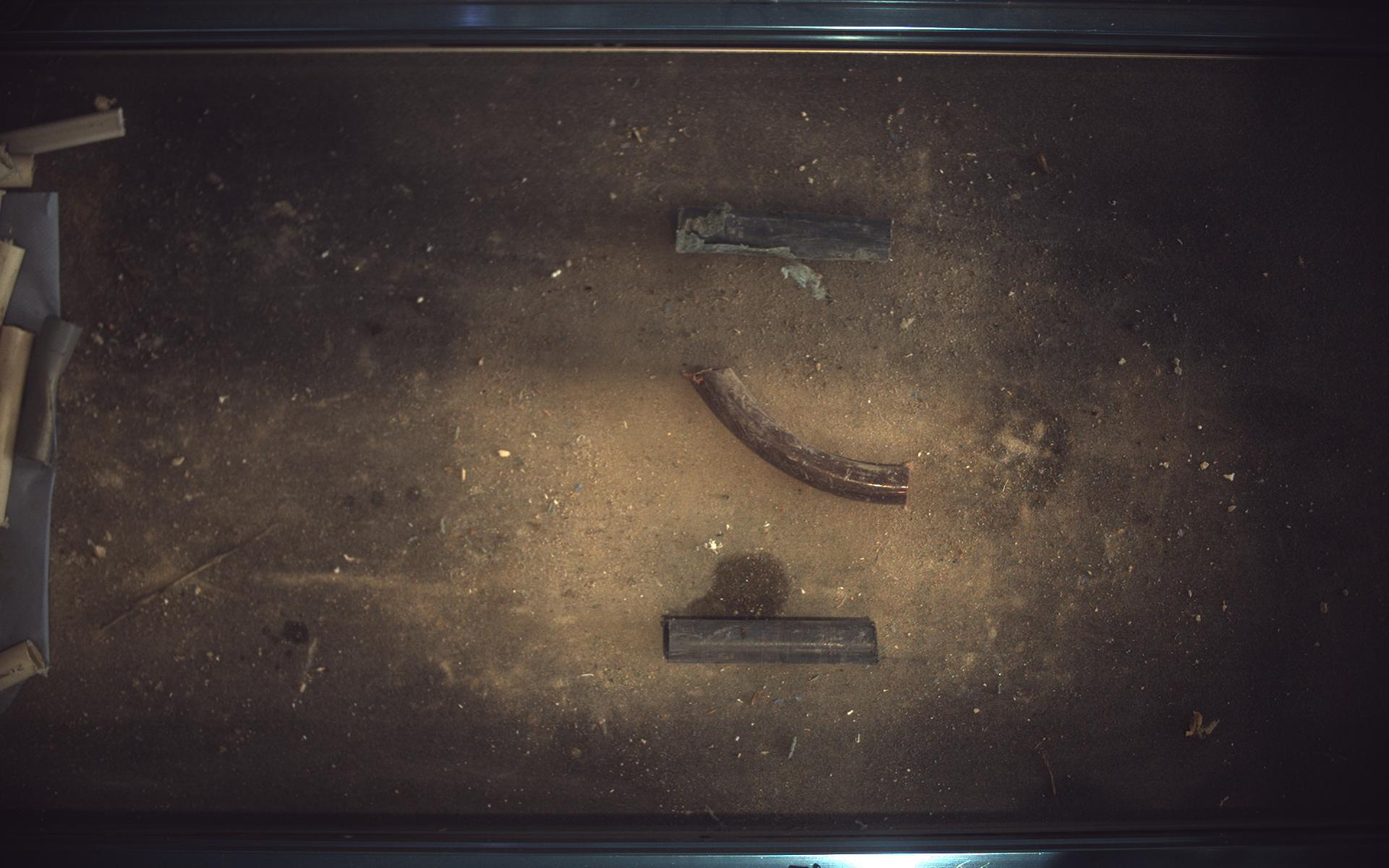pipes: (685, 367, 912, 505), (677, 202, 893, 300), (665, 617, 880, 665), (13, 315, 80, 467), (1, 326, 33, 527), (1, 641, 47, 692), (1, 239, 23, 324), (1, 143, 33, 190)
plastic: (1, 107, 124, 153)
